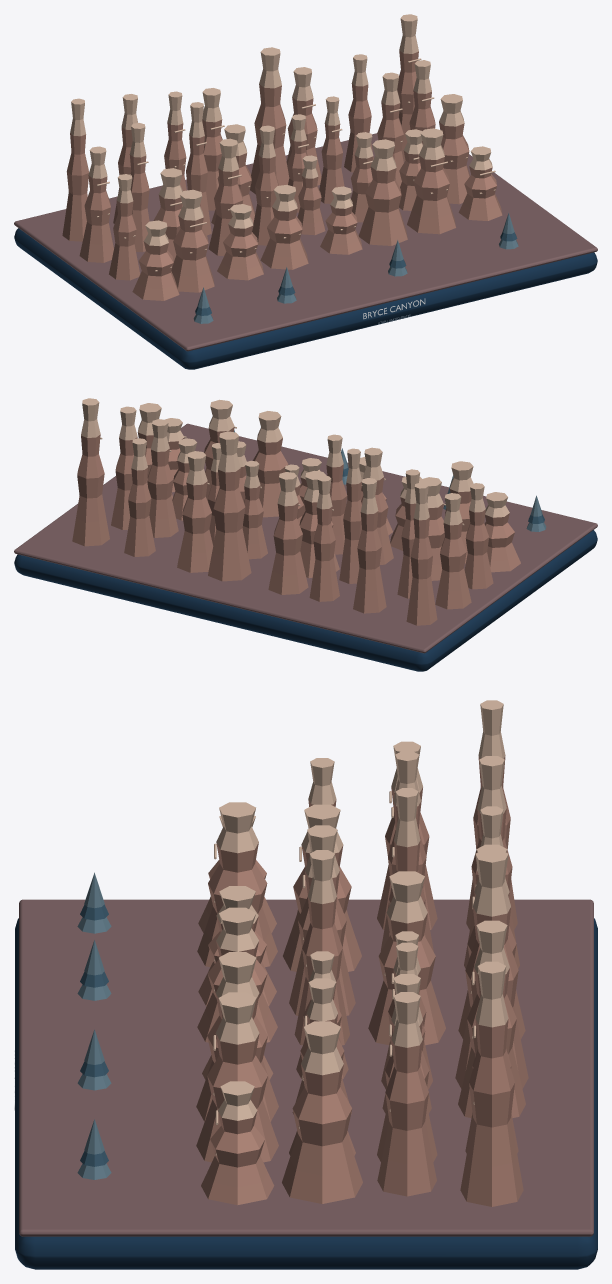
Rendered from bryce.glb.
3 renders of one model, top to bottom at view 1: azimuth 30°, elevation 25°; view 2: azimuth 150°, elevation 25°; view 3: azimuth 270°, elevation 25°, orthographic. The views are drawn at different scales.
Visible parts, largest first — view 1: Ground, Floating terrain, Eroded hoodoo.005, Eroded hoodoo.006, Eroded hoodoo.001, Eroded hoodoo.028, Eroded hoodoo.016, Eroded hoodoo.003, Eroded hoodoo.024, Eroded hoodoo, Eroded hoodoo.015, Eroded hoodoo.002 (+22 smaller); view 2: Ground, Floating terrain, Eroded hoodoo.028, Eroded hoodoo.031, Eroded hoodoo.027, Eroded hoodoo.029, Eroded hoodoo.025, Eroded hoodoo.024, Eroded hoodoo.016, Eroded hoodoo.022, Eroded hoodoo.026, Eroded hoodoo.030 (+20 smaller); view 3: Ground, Floating terrain, Eroded hoodoo.031, Eroded hoodoo.015, Eroded hoodoo.023, Eroded hoodoo.006, Eroded hoodoo.007, Eroded hoodoo.019, Eroded hoodoo.001, Eroded hoodoo.028, Eroded hoodoo.011, Eroded hoodoo.029 (+18 smaller).
Part boxes in pixels (<box>): Ground: <box>14,133,597,351</box>; Floating terrain: <box>14,228,597,369</box>; Eroded hoodoo.005: <box>358,139,407,245</box>; Eroded hoodoo.006: <box>407,128,456,234</box>; Eroded hoodoo.001: <box>171,189,214,292</box>; Eroded hoodoo.028: <box>250,47,289,194</box>; Eroded hoodoo.016: <box>79,146,113,262</box>; Eroded hoodoo.003: <box>260,185,308,269</box>; Eroded hoodoo.024: <box>62,98,88,241</box>; Eroded hoodoo: <box>132,220,179,300</box>; Eroded hoodoo.015: <box>439,94,469,204</box>; Eroded hoodoo.002: <box>217,204,263,280</box>; Ground: <box>14,423,597,653</box>; Floating terrain: <box>14,530,597,671</box>; Eroded hoodoo.028: <box>208,431,251,581</box>; Eroded hoodoo.031: <box>72,398,109,546</box>; Eroded hoodoo.027: <box>268,472,308,594</box>; Eroded hoodoo.029: <box>177,451,213,572</box>; Eroded hoodoo.025: <box>353,478,386,613</box>; Eroded hoodoo.024: <box>406,482,437,625</box>; Eroded hoodoo.016: <box>435,493,471,609</box>; Eroded hoodoo.022: <box>147,419,178,537</box>; Eroded hoodoo.026: <box>309,475,339,601</box>; Eroded hoodoo.030: <box>124,438,155,556</box>; Ground: <box>19,899,593,1236</box>; Floating terrain: <box>15,918,597,1269</box>; Eroded hoodoo.031: <box>460,961,523,1206</box>; Eroded hoodoo.015: <box>282,1021,362,1203</box>; Eroded hoodoo.023: <box>377,992,436,1196</box>; Eroded hoodoo.006: <box>196,992,278,1162</box>; Eroded hoodoo.007: <box>201,1081,274,1205</box>; Eroded hoodoo.019: <box>368,871,445,1045</box>; Eroded hoodoo.001: <box>197,802,277,967</box>; Eroded hoodoo.028: <box>455,849,528,1088</box>; Eroded hoodoo.011: <box>294,850,349,1045</box>; Eroded hoodoo.029: <box>458,920,525,1117</box>.
Bounding box in the file's own units: 15 × 5.62 × 11.02.
